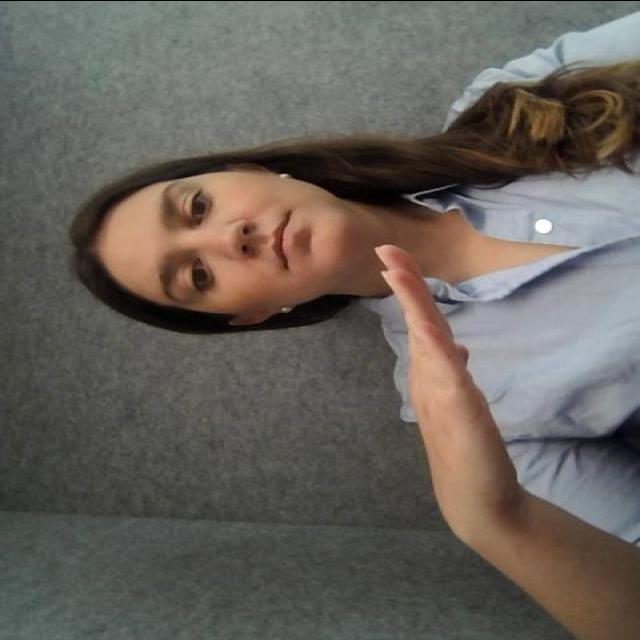Paper: (371, 249, 505, 475)
